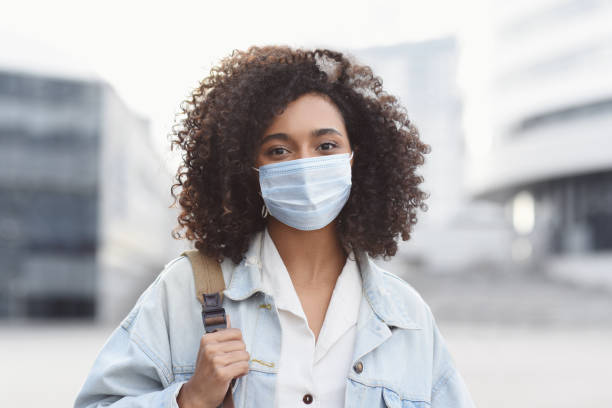with mask: (242, 78, 366, 243)
